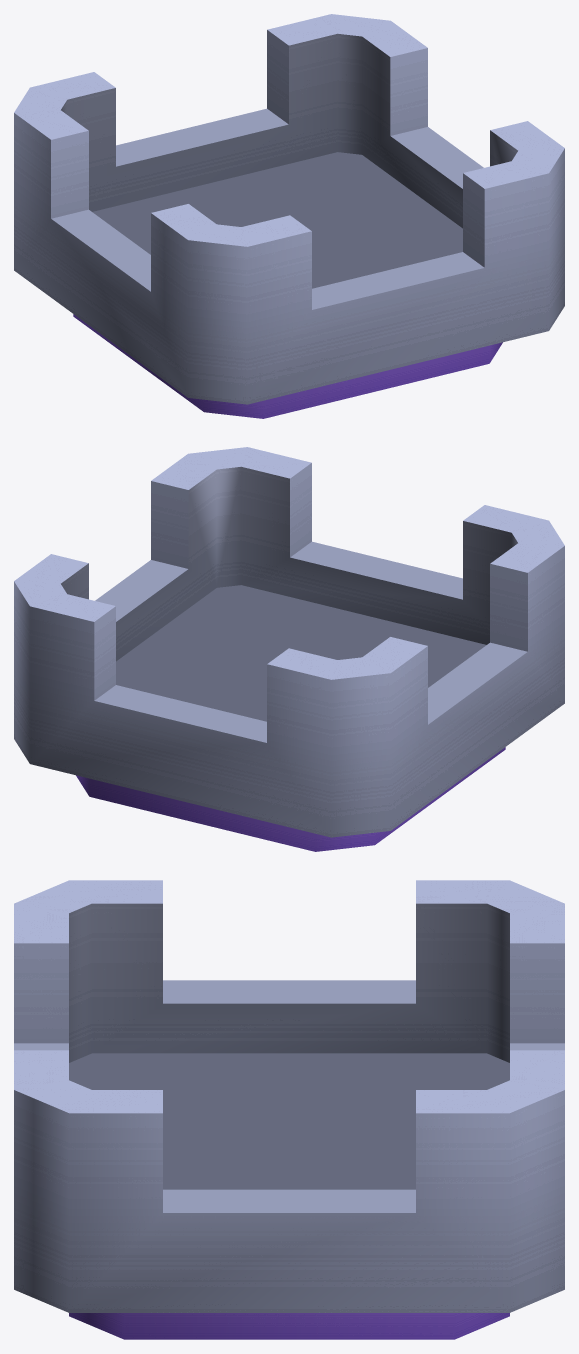
File: tower-square-middle-c.glb
3 views of the same model, one above another, from view 1: azimuth 30°, elevation 25°; view 2: azimuth 150°, elevation 25°; view 3: azimuth 270°, elevation 25° (orthographic). The views are drawn at different scales.
Visible parts, largest first — view 1: tower-square-middle-c; view 2: tower-square-middle-c; view 3: tower-square-middle-c.
Part boxes in pixels (x1=…): tower-square-middle-c: x1=14, y1=14, x2=564, y2=418; tower-square-middle-c: x1=14, y1=447, x2=564, y2=851; tower-square-middle-c: x1=14, y1=880, x2=564, y2=1339.
Size of the model in its own units: 1 by 0.5 by 1.
1 material, 1 textured.
